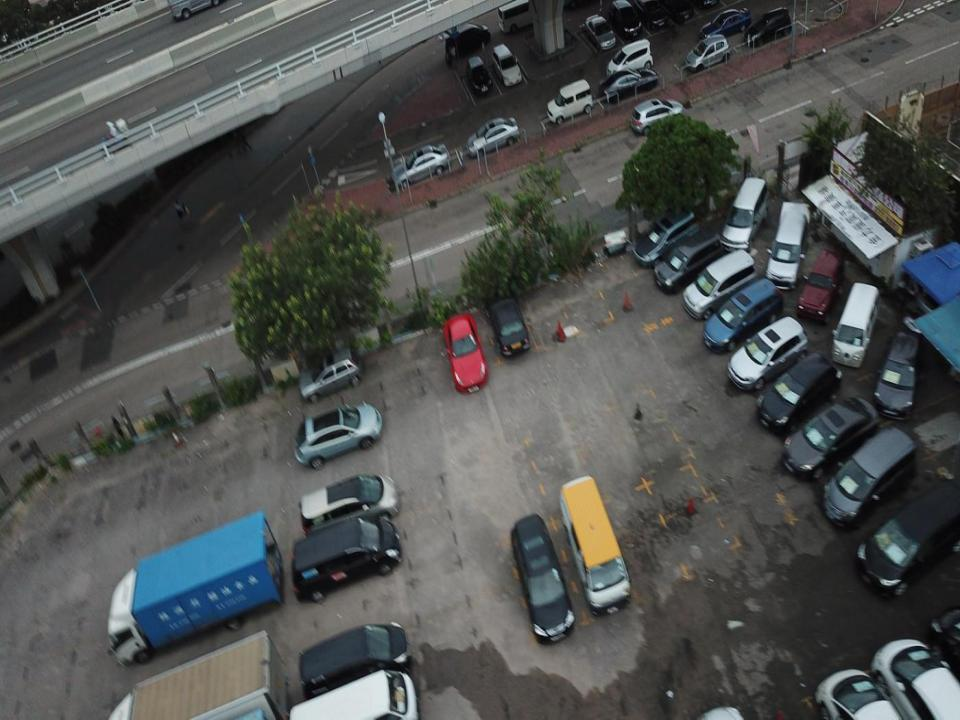car: (855, 472, 955, 606), (290, 512, 404, 605), (821, 423, 912, 532), (299, 618, 412, 700), (512, 513, 576, 644), (779, 394, 875, 478), (680, 246, 759, 323), (290, 401, 382, 467), (725, 320, 810, 391), (702, 275, 781, 351), (759, 352, 834, 429), (298, 475, 402, 525), (652, 221, 724, 290), (876, 322, 925, 415), (770, 198, 810, 294), (294, 347, 360, 404), (443, 309, 486, 395), (634, 204, 691, 266), (722, 172, 764, 256), (483, 289, 530, 358), (802, 246, 840, 322), (466, 110, 518, 162), (394, 141, 450, 187), (598, 61, 656, 102), (701, 6, 754, 48), (546, 77, 593, 124), (628, 92, 680, 134), (746, 7, 794, 46), (607, 36, 651, 76), (686, 33, 728, 74), (437, 26, 492, 54), (488, 41, 520, 82), (462, 53, 493, 93), (582, 10, 612, 50), (610, 0, 641, 35)
truck: (106, 511, 287, 665), (97, 632, 291, 719)
van: (559, 472, 633, 613), (286, 674, 424, 719), (831, 282, 882, 368), (495, 1, 556, 27)
